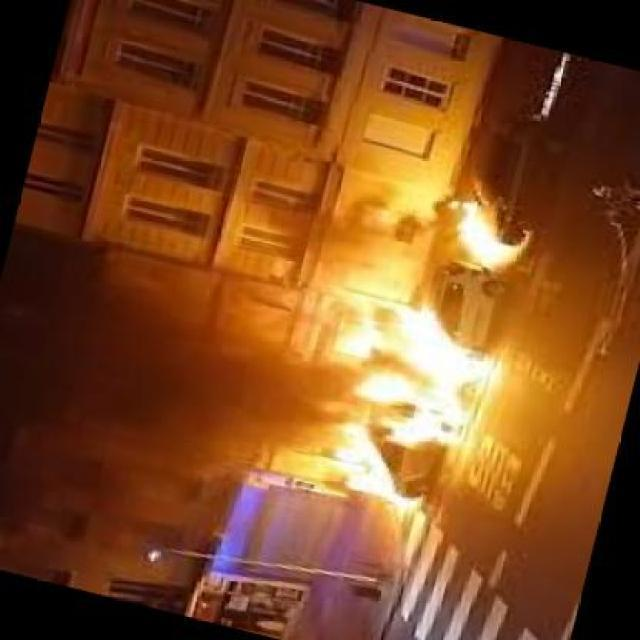Fire: (328, 202, 529, 520)
Smoke: (0, 220, 319, 594)
